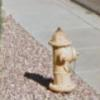a fire hydrant: (46, 27, 81, 93)
